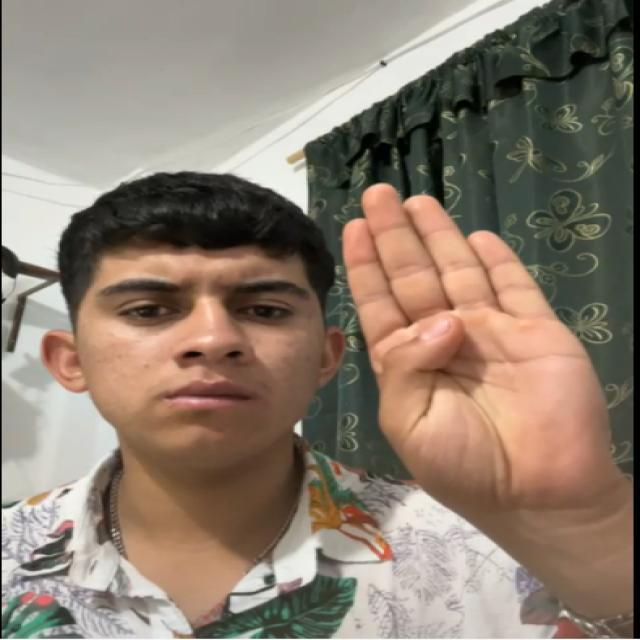B: (296, 169, 628, 524)
